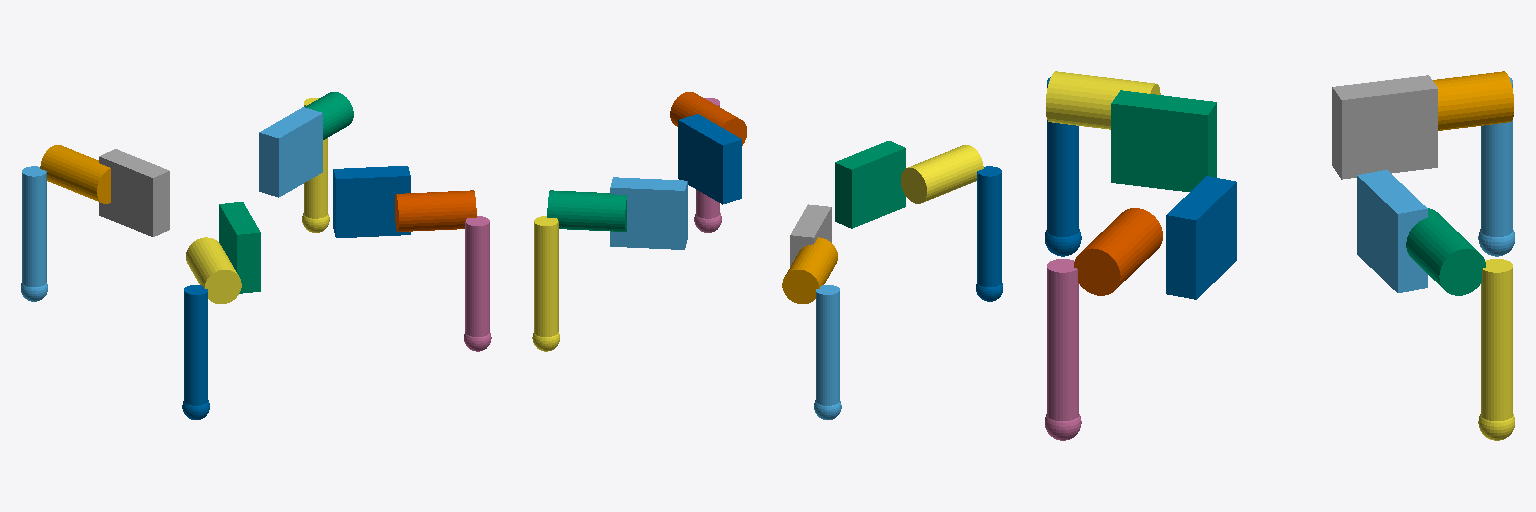
URDF robot description (cubebot):
<?xml version="1.0"?>
<robot name="cubebot">
  <!--
  CubeBot 12-DOF quadruped — generated from the validated MuJoCo model.
  Masses and inertia tensors are REAL (BOM components + CAD volumes),
  unlike the original Onshape URDF export where every <mass> was the mesh
  volume in m^3 (unit density: whole robot = 1.06 g).
  Geometry is primitives, so no mesh files are required.
-->
  <link name="trunk">
    <inertial>
      <origin xyz="-0.00447377 0.000204821 -0.00986828" rpy="-1.85233 -1.53107 -1.27366" />
      <mass value="0.6347" />
      <inertia ixx="0.00100791" iyy="0.000924149" izz="0.00072202" ixy="0" ixz="0" iyz="0" />
    </inertial>
    <collision name="trunk_col">
      <origin xyz="0 0 0" rpy="0 0 0" />
      <geometry>
        <box size="0.125 0.105 0.0824" />
      </geometry>
    </collision>
  </link>
  <link name="FL_hip">
    <inertial>
      <origin xyz="0.0120863 0.0014668 0.0072666" rpy="1.72203 -0.353429 1.59707" />
      <mass value="0.010877" />
      <inertia ixx="1.08799e-06" iyy="9.16316e-07" izz="8.82159e-07" ixy="0" ixz="0" iyz="0" />
    </inertial>
    <collision name="FL_hipbr_col">
      <origin xyz="0.0125 0.0085 0.00375" rpy="0 0 0" />
      <geometry>
        <box size="0.046 0.015 0.04" />
      </geometry>
    </collision>
    <visual name="FL_hipbr_vis">
      <origin xyz="0.0125 0.0085 0.00375" rpy="0 0 0" />
      <geometry>
        <box size="0.046 0.015 0.04" />
      </geometry>
    </visual>
  </link>
  <link name="FL_femur">
    <inertial>
      <origin xyz="0.0409163 0 0" rpy="1.5708 0 1.5708" />
      <mass value="0.0127687" />
      <inertia ixx="3.41264e-06" iyy="3.41264e-06" izz="7.0479e-07" ixy="0" ixz="0" iyz="0" />
    </inertial>
    <collision name="FL_femur_col">
      <origin xyz="0.024 0 0" rpy="0 -1.5708 0" />
      <geometry>
        <cylinder radius="0.01175" length="0.048" />
      </geometry>
    </collision>
    <visual name="FL_femur_vis">
      <origin xyz="0.024 0 0" rpy="0 -1.5708 0" />
      <geometry>
        <cylinder radius="0.01175" length="0.048" />
      </geometry>
    </visual>
  </link>
  <link name="FL_tibia">
    <inertial>
      <origin xyz="0 0.017 -0.0521092" rpy="0 0 0" />
      <mass value="0.00559622" />
      <inertia ixx="4.50829e-06" iyy="4.50829e-06" izz="1.56389e-07" ixy="0" ixz="0" iyz="0" />
    </inertial>
    <collision name="FL_tibia_col">
      <origin xyz="0 0.017 -0.039412" rpy="0 0 0" />
      <geometry>
        <cylinder radius="0.0075" length="0.0788241" />
      </geometry>
    </collision>
    <visual name="FL_tibia_vis">
      <origin xyz="0 0.017 -0.039412" rpy="0 0 0" />
      <geometry>
        <cylinder radius="0.0075" length="0.0788241" />
      </geometry>
    </visual>
    <collision name="FL_foot_col">
      <origin xyz="0 0.017 -0.0788241" rpy="0 0 0" />
      <geometry>
        <sphere radius="0.0085" />
      </geometry>
    </collision>
    <visual name="FL_foot_vis">
      <origin xyz="0 0.017 -0.0788241" rpy="0 0 0" />
      <geometry>
        <sphere radius="0.0085" />
      </geometry>
    </visual>
  </link>
  <link name="FR_hip">
    <inertial>
      <origin xyz="0.0120863 0.0014668 0.0072666" rpy="1.72203 -0.353429 1.59707" />
      <mass value="0.010877" />
      <inertia ixx="1.08799e-06" iyy="9.16316e-07" izz="8.82159e-07" ixy="0" ixz="0" iyz="0" />
    </inertial>
    <collision name="FR_hipbr_col">
      <origin xyz="0.0125 0.0085 0.00375" rpy="0 0 0" />
      <geometry>
        <box size="0.046 0.015 0.04" />
      </geometry>
    </collision>
    <visual name="FR_hipbr_vis">
      <origin xyz="0.0125 0.0085 0.00375" rpy="0 0 0" />
      <geometry>
        <box size="0.046 0.015 0.04" />
      </geometry>
    </visual>
  </link>
  <link name="FR_femur">
    <inertial>
      <origin xyz="0.0409163 0 0" rpy="1.5708 0 1.5708" />
      <mass value="0.0127687" />
      <inertia ixx="3.41264e-06" iyy="3.41264e-06" izz="7.0479e-07" ixy="0" ixz="0" iyz="0" />
    </inertial>
    <collision name="FR_femur_col">
      <origin xyz="0.024 0 0" rpy="0 -1.5708 0" />
      <geometry>
        <cylinder radius="0.01175" length="0.048" />
      </geometry>
    </collision>
    <visual name="FR_femur_vis">
      <origin xyz="0.024 0 0" rpy="0 -1.5708 0" />
      <geometry>
        <cylinder radius="0.01175" length="0.048" />
      </geometry>
    </visual>
  </link>
  <link name="FR_tibia">
    <inertial>
      <origin xyz="0 -0.017 -0.0521092" rpy="0 0 0" />
      <mass value="0.00559622" />
      <inertia ixx="4.50829e-06" iyy="4.50829e-06" izz="1.56389e-07" ixy="0" ixz="0" iyz="0" />
    </inertial>
    <collision name="FR_tibia_col">
      <origin xyz="0 -0.017 -0.039412" rpy="0 0 0" />
      <geometry>
        <cylinder radius="0.0075" length="0.0788241" />
      </geometry>
    </collision>
    <visual name="FR_tibia_vis">
      <origin xyz="0 -0.017 -0.039412" rpy="0 0 0" />
      <geometry>
        <cylinder radius="0.0075" length="0.0788241" />
      </geometry>
    </visual>
    <collision name="FR_foot_col">
      <origin xyz="0 -0.017 -0.0788241" rpy="0 0 0" />
      <geometry>
        <sphere radius="0.0085" />
      </geometry>
    </collision>
    <visual name="FR_foot_vis">
      <origin xyz="0 -0.017 -0.0788241" rpy="0 0 0" />
      <geometry>
        <sphere radius="0.0085" />
      </geometry>
    </visual>
  </link>
  <link name="BL_hip">
    <inertial>
      <origin xyz="0.0120863 0.0014668 0.0072666" rpy="1.72203 -0.353429 1.59707" />
      <mass value="0.010877" />
      <inertia ixx="1.08799e-06" iyy="9.16316e-07" izz="8.82159e-07" ixy="0" ixz="0" iyz="0" />
    </inertial>
    <collision name="BL_hipbr_col">
      <origin xyz="0.0125 0.0085 0.00375" rpy="0 0 0" />
      <geometry>
        <box size="0.046 0.015 0.04" />
      </geometry>
    </collision>
    <visual name="BL_hipbr_vis">
      <origin xyz="0.0125 0.0085 0.00375" rpy="0 0 0" />
      <geometry>
        <box size="0.046 0.015 0.04" />
      </geometry>
    </visual>
  </link>
  <link name="BL_femur">
    <inertial>
      <origin xyz="0.0409163 0 0" rpy="1.5708 0 1.5708" />
      <mass value="0.0127687" />
      <inertia ixx="3.41264e-06" iyy="3.41264e-06" izz="7.0479e-07" ixy="0" ixz="0" iyz="0" />
    </inertial>
    <collision name="BL_femur_col">
      <origin xyz="0.024 0 0" rpy="0 -1.5708 0" />
      <geometry>
        <cylinder radius="0.01175" length="0.048" />
      </geometry>
    </collision>
    <visual name="BL_femur_vis">
      <origin xyz="0.024 0 0" rpy="0 -1.5708 0" />
      <geometry>
        <cylinder radius="0.01175" length="0.048" />
      </geometry>
    </visual>
  </link>
  <link name="BL_tibia">
    <inertial>
      <origin xyz="0 0.017 -0.0521092" rpy="0 0 0" />
      <mass value="0.00559622" />
      <inertia ixx="4.50829e-06" iyy="4.50829e-06" izz="1.56389e-07" ixy="0" ixz="0" iyz="0" />
    </inertial>
    <collision name="BL_tibia_col">
      <origin xyz="0 0.017 -0.039412" rpy="0 0 0" />
      <geometry>
        <cylinder radius="0.0075" length="0.0788241" />
      </geometry>
    </collision>
    <visual name="BL_tibia_vis">
      <origin xyz="0 0.017 -0.039412" rpy="0 0 0" />
      <geometry>
        <cylinder radius="0.0075" length="0.0788241" />
      </geometry>
    </visual>
    <collision name="BL_foot_col">
      <origin xyz="0 0.017 -0.0788241" rpy="0 0 0" />
      <geometry>
        <sphere radius="0.0085" />
      </geometry>
    </collision>
    <visual name="BL_foot_vis">
      <origin xyz="0 0.017 -0.0788241" rpy="0 0 0" />
      <geometry>
        <sphere radius="0.0085" />
      </geometry>
    </visual>
  </link>
  <link name="BR_hip">
    <inertial>
      <origin xyz="0.0120863 0.0014668 0.0072666" rpy="1.72203 -0.353429 1.59707" />
      <mass value="0.010877" />
      <inertia ixx="1.08799e-06" iyy="9.16316e-07" izz="8.82159e-07" ixy="0" ixz="0" iyz="0" />
    </inertial>
    <collision name="BR_hipbr_col">
      <origin xyz="0.0125 0.0085 0.00375" rpy="0 0 0" />
      <geometry>
        <box size="0.046 0.015 0.04" />
      </geometry>
    </collision>
    <visual name="BR_hipbr_vis">
      <origin xyz="0.0125 0.0085 0.00375" rpy="0 0 0" />
      <geometry>
        <box size="0.046 0.015 0.04" />
      </geometry>
    </visual>
  </link>
  <link name="BR_femur">
    <inertial>
      <origin xyz="0.0409163 0 0" rpy="1.5708 0 1.5708" />
      <mass value="0.0127687" />
      <inertia ixx="3.41264e-06" iyy="3.41264e-06" izz="7.0479e-07" ixy="0" ixz="0" iyz="0" />
    </inertial>
    <collision name="BR_femur_col">
      <origin xyz="0.024 0 0" rpy="0 -1.5708 0" />
      <geometry>
        <cylinder radius="0.01175" length="0.048" />
      </geometry>
    </collision>
    <visual name="BR_femur_vis">
      <origin xyz="0.024 0 0" rpy="0 -1.5708 0" />
      <geometry>
        <cylinder radius="0.01175" length="0.048" />
      </geometry>
    </visual>
  </link>
  <link name="BR_tibia">
    <inertial>
      <origin xyz="0 -0.017 -0.0521092" rpy="0 0 0" />
      <mass value="0.00559622" />
      <inertia ixx="4.50829e-06" iyy="4.50829e-06" izz="1.56389e-07" ixy="0" ixz="0" iyz="0" />
    </inertial>
    <collision name="BR_tibia_col">
      <origin xyz="0 -0.017 -0.039412" rpy="0 0 0" />
      <geometry>
        <cylinder radius="0.0075" length="0.0788241" />
      </geometry>
    </collision>
    <visual name="BR_tibia_vis">
      <origin xyz="0 -0.017 -0.039412" rpy="0 0 0" />
      <geometry>
        <cylinder radius="0.0075" length="0.0788241" />
      </geometry>
    </visual>
    <collision name="BR_foot_col">
      <origin xyz="0 -0.017 -0.0788241" rpy="0 0 0" />
      <geometry>
        <sphere radius="0.0085" />
      </geometry>
    </collision>
    <visual name="BR_foot_vis">
      <origin xyz="0 -0.017 -0.0788241" rpy="0 0 0" />
      <geometry>
        <sphere radius="0.0085" />
      </geometry>
    </visual>
  </link>
  <joint name="FL_yaw" type="revolute">
    <parent link="trunk" />
    <child link="FL_hip" />
    <origin xyz="0.0465 0.0385 -0.0232" rpy="0 0 0.415844" />
    <axis xyz="0 0 1" />
    <limit lower="-1.6" upper="1.6" effort="0.17652" velocity="10.47" />
    <dynamics damping="0.004" friction="0" />
  </joint>
  <joint name="FL_pitch" type="revolute">
    <parent link="FL_hip" />
    <child link="FL_femur" />
    <origin xyz="0.025 0.017 0.0075" rpy="0 0 0" />
    <axis xyz="0 1 0" />
    <limit lower="-1.4" upper="1.4" effort="0.245166" velocity="10.47" />
    <dynamics damping="0.004" friction="0" />
  </joint>
  <joint name="FL_knee" type="revolute">
    <parent link="FL_femur" />
    <child link="FL_tibia" />
    <origin xyz="0.048 0 0" rpy="0 0 0" />
    <axis xyz="0 1 0" />
    <limit lower="-2.2" upper="2.2" effort="0.245166" velocity="10.47" />
    <dynamics damping="0.004" friction="0" />
  </joint>
  <joint name="FR_yaw" type="revolute">
    <parent link="trunk" />
    <child link="FR_hip" />
    <origin xyz="0.0465 -0.0385 -0.0232" rpy="0 0 -0.415844" />
    <axis xyz="0 0 1" />
    <limit lower="-1.6" upper="1.6" effort="0.17652" velocity="10.47" />
    <dynamics damping="0.004" friction="0" />
  </joint>
  <joint name="FR_pitch" type="revolute">
    <parent link="FR_hip" />
    <child link="FR_femur" />
    <origin xyz="0.025 -0.017 0.0075" rpy="0 0 0" />
    <axis xyz="0 1 0" />
    <limit lower="-1.4" upper="1.4" effort="0.245166" velocity="10.47" />
    <dynamics damping="0.004" friction="0" />
  </joint>
  <joint name="FR_knee" type="revolute">
    <parent link="FR_femur" />
    <child link="FR_tibia" />
    <origin xyz="0.048 0 0" rpy="0 0 0" />
    <axis xyz="0 1 0" />
    <limit lower="-2.2" upper="2.2" effort="0.245166" velocity="10.47" />
    <dynamics damping="0.004" friction="0" />
  </joint>
  <joint name="BL_yaw" type="revolute">
    <parent link="trunk" />
    <child link="BL_hip" />
    <origin xyz="-0.0465 0.0385 -0.0232" rpy="0 0 1.854" />
    <axis xyz="0 0 1" />
    <limit lower="-1.6" upper="1.6" effort="0.17652" velocity="10.47" />
    <dynamics damping="0.004" friction="0" />
  </joint>
  <joint name="BL_pitch" type="revolute">
    <parent link="BL_hip" />
    <child link="BL_femur" />
    <origin xyz="0.025 0.017 0.0075" rpy="0 0 0" />
    <axis xyz="0 1 0" />
    <limit lower="-1.4" upper="1.4" effort="0.245166" velocity="10.47" />
    <dynamics damping="0.004" friction="0" />
  </joint>
  <joint name="BL_knee" type="revolute">
    <parent link="BL_femur" />
    <child link="BL_tibia" />
    <origin xyz="0.048 0 0" rpy="0 0 0" />
    <axis xyz="0 1 0" />
    <limit lower="-2.2" upper="2.2" effort="0.245166" velocity="10.47" />
    <dynamics damping="0.004" friction="0" />
  </joint>
  <joint name="BR_yaw" type="revolute">
    <parent link="trunk" />
    <child link="BR_hip" />
    <origin xyz="-0.0465 -0.0385 -0.0232" rpy="0 0 -1.854" />
    <axis xyz="0 0 1" />
    <limit lower="-1.6" upper="1.6" effort="0.17652" velocity="10.47" />
    <dynamics damping="0.004" friction="0" />
  </joint>
  <joint name="BR_pitch" type="revolute">
    <parent link="BR_hip" />
    <child link="BR_femur" />
    <origin xyz="0.025 -0.017 0.0075" rpy="0 0 0" />
    <axis xyz="0 1 0" />
    <limit lower="-1.4" upper="1.4" effort="0.245166" velocity="10.47" />
    <dynamics damping="0.004" friction="0" />
  </joint>
  <joint name="BR_knee" type="revolute">
    <parent link="BR_femur" />
    <child link="BR_tibia" />
    <origin xyz="0.048 0 0" rpy="0 0 0" />
    <axis xyz="0 1 0" />
    <limit lower="-2.2" upper="2.2" effort="0.245166" velocity="10.47" />
    <dynamics damping="0.004" friction="0" />
  </joint>
</robot>

--- Render facts (derived) ---
Views: 3 orthographic renders of the robot side by side, from view 1: azimuth 30°, elevation 25°; view 2: azimuth 150°, elevation 25°; view 3: azimuth 270°, elevation 25°.
Robot: cubebot — 13 links, 12 joints (12 revolute); root link trunk; default pose: all joints at 0.
Visible links, largest first — view 1: FR_hip, FL_hip, BL_hip, FR_tibia, BL_tibia, BR_tibia, FR_femur, BR_hip, BL_femur, BR_femur, FL_tibia, FL_femur; view 2: BR_hip, FL_hip, FR_hip, FL_tibia, BR_tibia, BL_tibia, BR_femur, FL_femur, BL_femur, FR_femur, BL_hip, FR_tibia; view 3: BL_hip, BR_hip, FR_hip, FL_hip, FL_tibia, FR_tibia, FR_femur, BL_tibia, BR_tibia, FL_femur, BR_femur, BL_femur.
Boxes of the visible links, x1,y1,x2,y2 form: FR_hip: [333, 166, 410, 237]; FL_hip: [259, 107, 322, 197]; BL_hip: [99, 149, 169, 236]; FR_tibia: [464, 216, 491, 351]; BL_tibia: [21, 166, 47, 301]; BR_tibia: [182, 285, 209, 419]; FR_femur: [395, 190, 476, 231]; BR_hip: [219, 202, 260, 293]; BL_femur: [40, 145, 110, 203]; BR_femur: [186, 237, 241, 303]; FL_tibia: [302, 98, 329, 232]; FL_femur: [305, 92, 353, 139]; BR_hip: [835, 141, 905, 228]; FL_hip: [610, 177, 687, 249]; FR_hip: [678, 114, 741, 204]; FL_tibia: [532, 216, 559, 351]; BR_tibia: [976, 166, 1002, 301]; BL_tibia: [814, 285, 841, 419]; BR_femur: [901, 145, 983, 203]; FL_femur: [547, 190, 626, 231]; BL_femur: [782, 237, 837, 303]; FR_femur: [670, 92, 746, 145]; BL_hip: [790, 204, 831, 266]; FR_tibia: [694, 98, 721, 232]; BL_hip: [1332, 75, 1437, 179]; BR_hip: [1111, 90, 1216, 191]; FR_hip: [1166, 176, 1236, 299]; FL_hip: [1357, 170, 1427, 292]; FL_tibia: [1478, 259, 1514, 440]; FR_tibia: [1045, 259, 1081, 440]; FR_femur: [1074, 208, 1162, 295]; BL_tibia: [1478, 77, 1514, 256]; BR_tibia: [1045, 77, 1081, 256]; FL_femur: [1406, 208, 1485, 295]; BR_femur: [1046, 71, 1160, 129]; BL_femur: [1433, 71, 1513, 130].
Bounding box of the posed robot: 0.2192 × 0.2152 × 0.1036 m (x, y, z).
Geometry: primitives only (box / cylinder / sphere), no mesh files.
